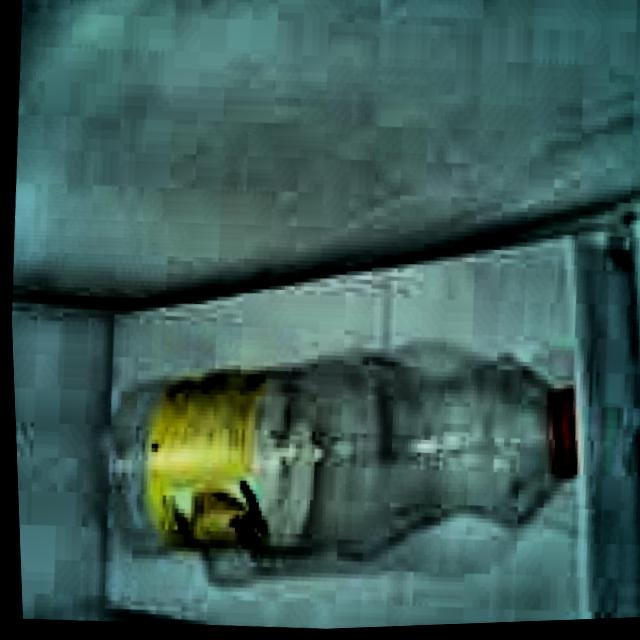Bottles: (71, 313, 616, 581)
